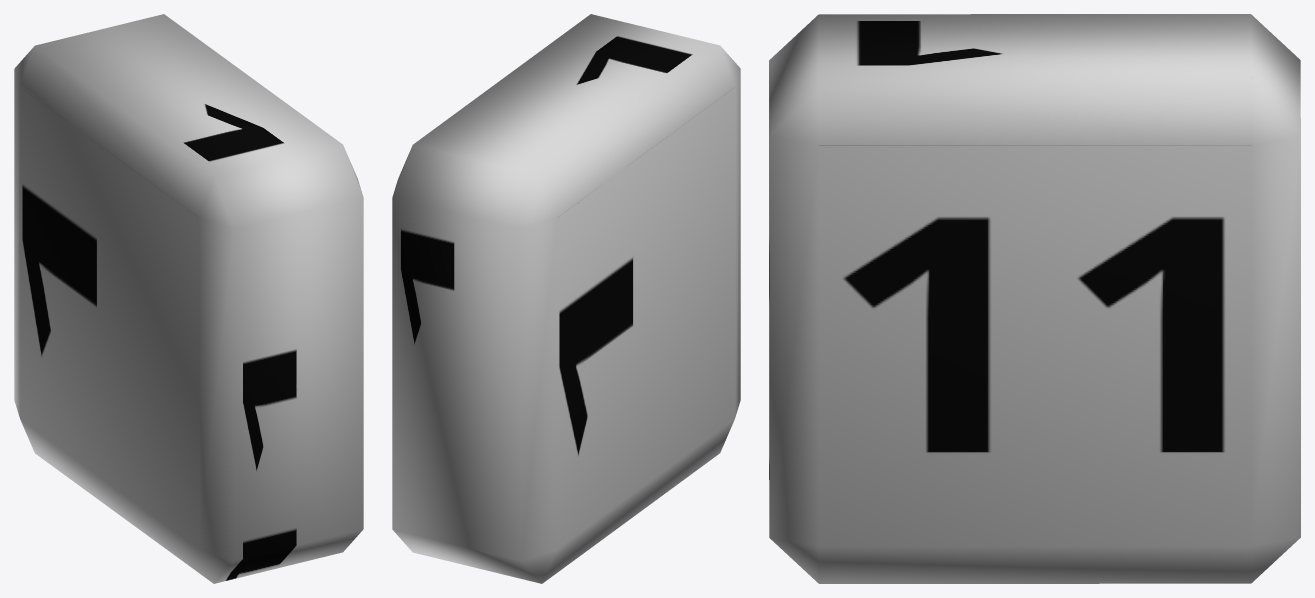
Rendered from Boton11.fbx.
The picture shows the model from 3 angles, left to right: view 1: azimuth 30°, elevation 25°; view 2: azimuth 150°, elevation 25°; view 3: azimuth 270°, elevation 25°; orthographic projection. The views are drawn at different scales.
Visible parts, largest first — view 1: Boton11; view 2: Boton11; view 3: Boton11.
Part boxes in pixels (<box>): Boton11: <box>14,14,363,583</box>; Boton11: <box>392,14,740,583</box>; Boton11: <box>769,14,1300,583</box>.
Size of the model in its own units: 1.36 by 3.32 by 3.25.
